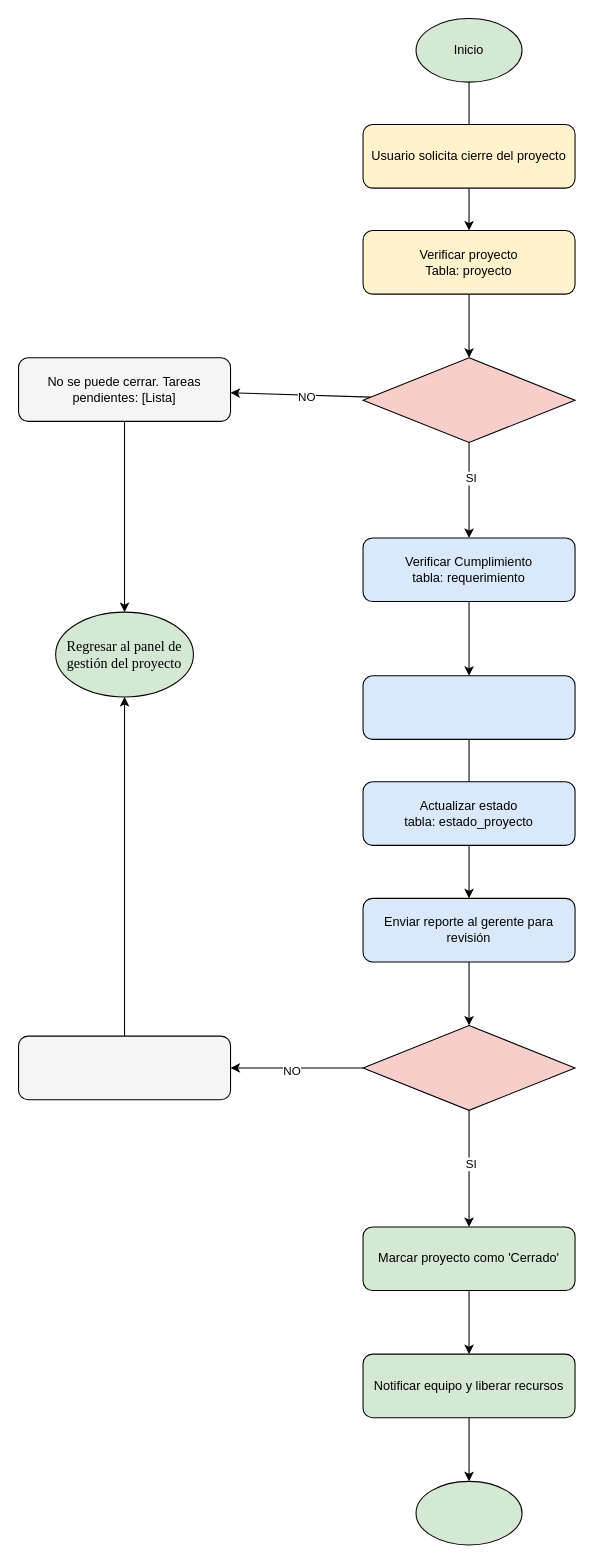
This 594x1563 diagram has some shape labels left out. Here are the shapes that lost their labels. From the top down, the centre of each, then its label:
(x=468, y=400): ¿Todas las tareas están completadas?
(x=468, y=707): Generar reporte final del proyecto
(x=124, y=1067): Cierre rechazado. Razón: [Motivo]
(x=468, y=1067): ¿El gerente aprueba el cierre?
(x=468, y=1512): Fin
